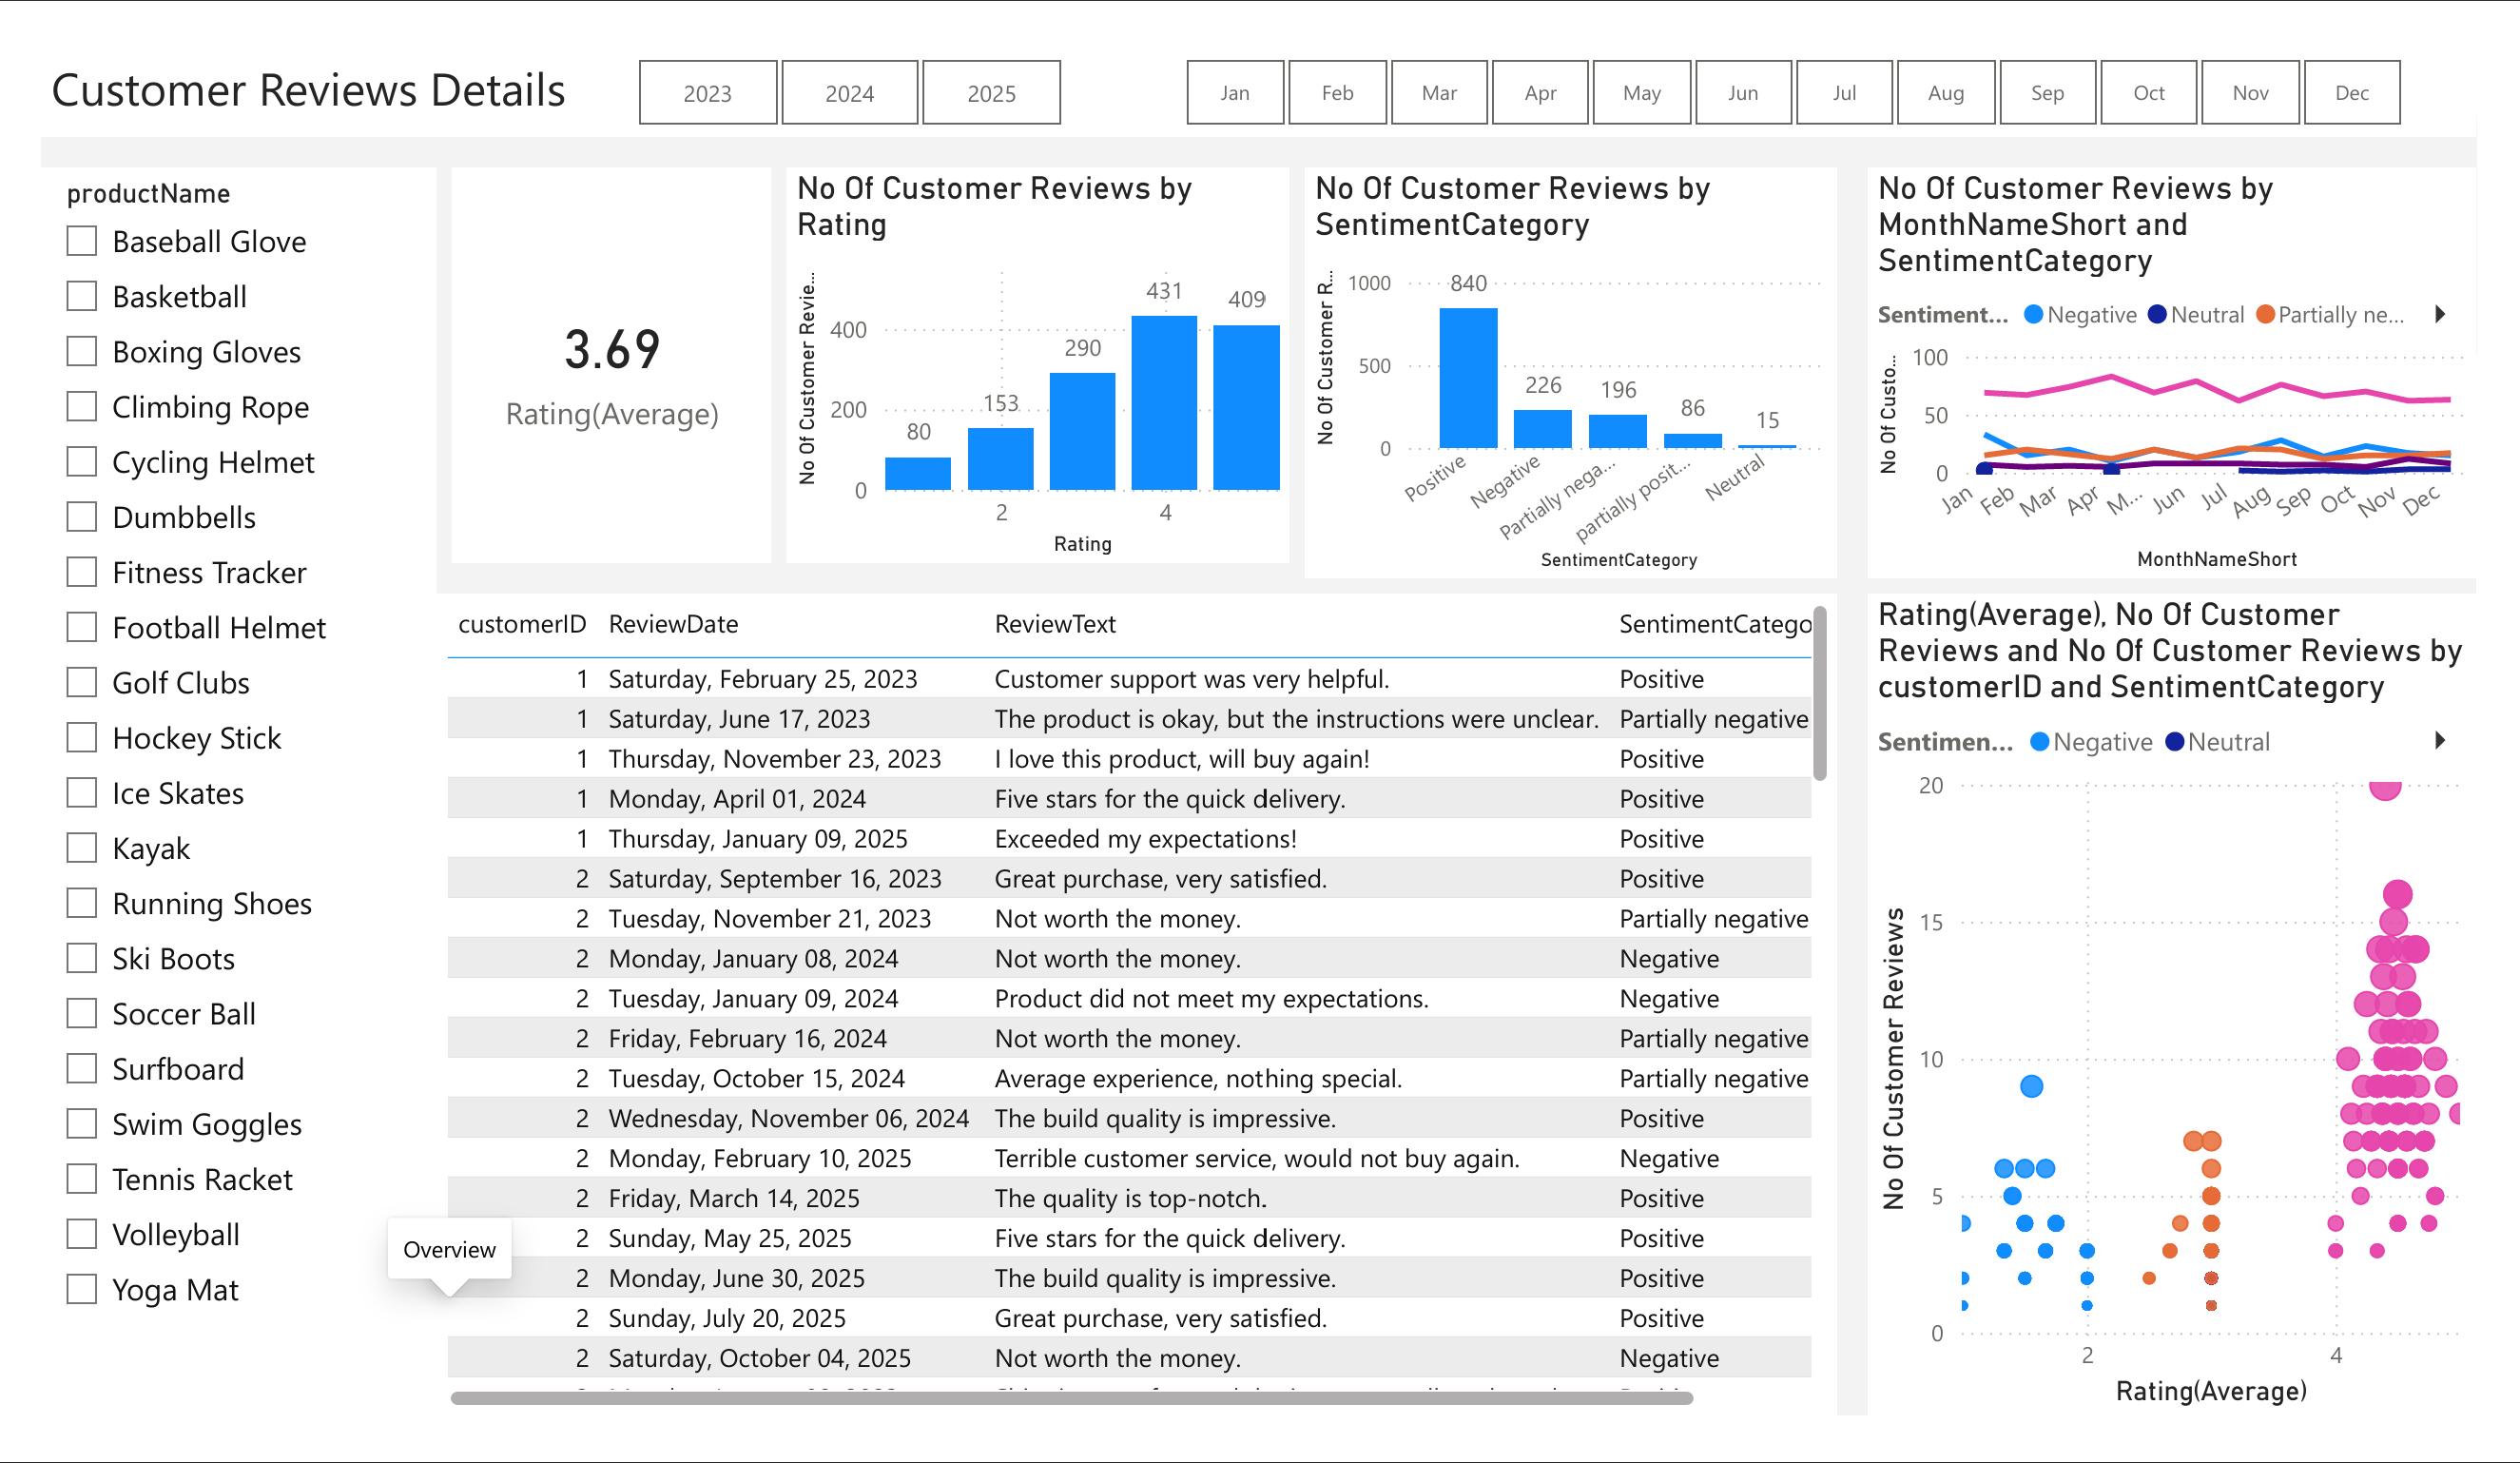

What the dashboard file says about the page in this screenshot:
{"tool":"powerbi","page":{"name":"Customer Review Details","canvas":[1280,720],"ordinal":3},"visuals":[{"type":"textbox","box":[0,0,1280,48],"z":0},{"type":"slicer","fields":{"Values":["dim_products.productName"]},"box":[0,64,208,656],"z":1000},{"type":"slicer","fields":{"Values":["Calendar.Date.Variation.Date Hierarchy.Year"]},"box":[288,0,272,48],"z":2000},{"type":"slicer","fields":{"Values":["Calendar.MonthNameShort"]},"box":[576,0,688,48],"z":3000},{"type":"card","fields":{"Values":["Calculations.Rating(Average)"]},"box":[216,64,168,208],"z":4000},{"type":"columnChart","fields":{"Y":["Calculations.No Of Customer Reviews"],"Category":["fact_customer_reviews_with_sentiment.Rating"]},"box":[392,64,264,208],"z":5000},{"type":"columnChart","fields":{"Y":["Calculations.No Of Customer Reviews"],"Category":["fact_customer_reviews_with_sentiment.SentimentCategory"]},"box":[664,64,280,216],"z":6000},{"type":"lineChart","fields":{"Category":["Calendar.MonthNameShort"],"Series":["fact_customer_reviews_with_sentiment.SentimentCategory"],"Y":["Calculations.No Of Customer Reviews"]},"box":[960,64,320,216],"z":7000},{"type":"tableEx","fields":{"Values":["fact_customer_reviews_with_sentiment.customerID","fact_customer_reviews_with_sentiment.ReviewDate","fact_customer_reviews_with_sentiment.ReviewText","fact_customer_reviews_with_sentiment.SentimentCategory","fact_customer_reviews_with_sentiment.Rating"]},"box":[208,288,736,432],"z":8000},{"type":"scatterChart","fields":{"X":["Calculations.Rating(Average)"],"Y":["Calculations.No Of Customer Reviews"],"Category":["fact_customer_reviews_with_sentiment.customerID"],"Series":["fact_customer_reviews_with_sentiment.SentimentCategory"],"Size":["Calculations.No Of Customer Reviews"]},"box":[960,288,320,432],"z":9000}]}

Visuals, with their boxes on the page's 1280x720 design canvas (x1, y1, x2, y2). These are canvas units, not pixel positions in the 2520x1463 screenshot, which may show the page scaled, cropped or inside an application window:
textbox: (x1=0, y1=0, x2=1280, y2=48)
slicer - dim_products.productName: (x1=0, y1=64, x2=208, y2=720)
slicer - Calendar.Date.Variation.Date Hierarchy.Year: (x1=288, y1=0, x2=560, y2=48)
slicer - Calendar.MonthNameShort: (x1=576, y1=0, x2=1264, y2=48)
card - Calculations.Rating(Average): (x1=216, y1=64, x2=384, y2=272)
columnChart - Calculations.No Of Customer Reviews x fact_customer_reviews_with_sentiment.Rating: (x1=392, y1=64, x2=656, y2=272)
columnChart - Calculations.No Of Customer Reviews x fact_customer_reviews_with_sentiment.SentimentCategory: (x1=664, y1=64, x2=944, y2=280)
lineChart - Calendar.MonthNameShort x fact_customer_reviews_with_sentiment.SentimentCategory: (x1=960, y1=64, x2=1280, y2=280)
tableEx - fact_customer_reviews_with_sentiment.customerID x fact_customer_reviews_with_sentiment.ReviewDate: (x1=208, y1=288, x2=944, y2=720)
scatterChart - Calculations.Rating(Average) x Calculations.No Of Customer Reviews: (x1=960, y1=288, x2=1280, y2=720)
